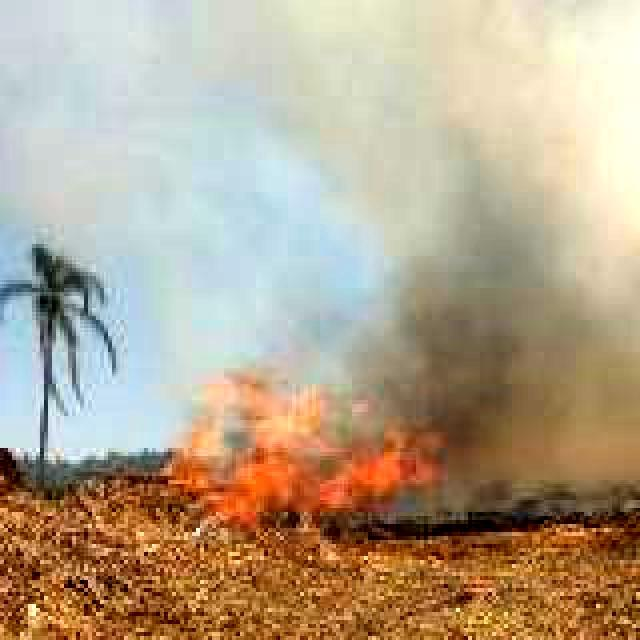smoke: (361, 135, 559, 451)
